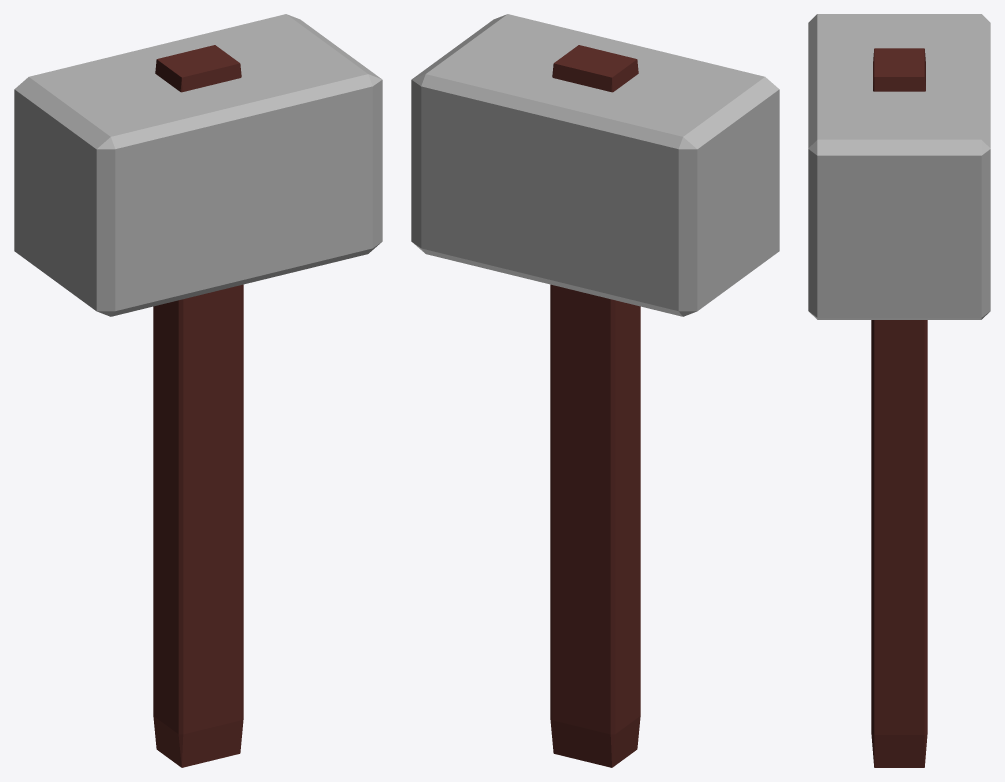
Rendered from HammerBig.fbx.
The picture shows the model from 3 angles, left to right: view 1: azimuth 30°, elevation 25°; view 2: azimuth 150°, elevation 25°; view 3: azimuth 270°, elevation 25°; orthographic projection.
Parts seen in each view (by area): view 1: HammerBig; view 2: HammerBig; view 3: HammerBig.
Part boxes in pixels (x1=…): HammerBig: x1=14, y1=14, x2=382, y2=767; HammerBig: x1=411, y1=14, x2=779, y2=767; HammerBig: x1=808, y1=14, x2=990, y2=767.
Bounding box in the file's own units: 53.2 × 29.39 × 123.
